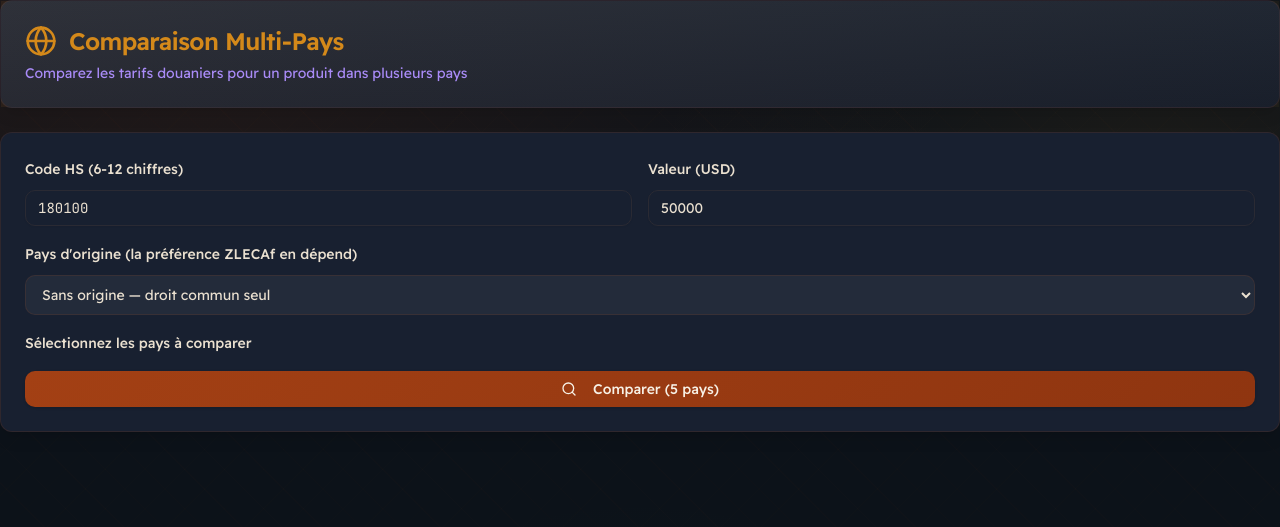
Test: MultiCountryComparison › garde le message du serveur pour un pays qui échoue pour une autre raison
Click the button with test id "compare-button".
click(640, 389)  # box [25,371,1255,407]
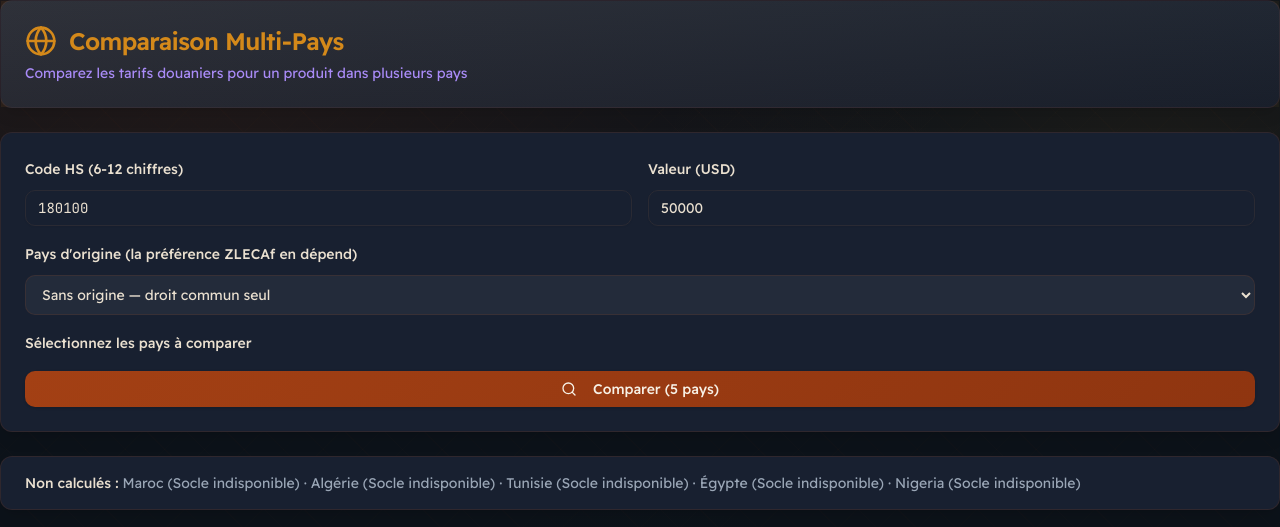
Expected: the element with test id "compare-echecs" shows "Socle indisponible", [122,474,1081,492]
